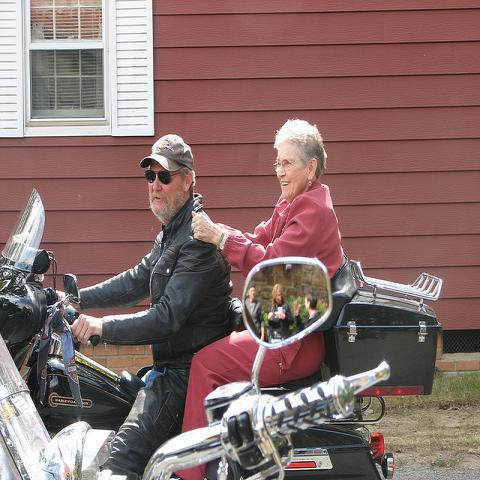motorcycle: (0, 190, 446, 429), (54, 364, 382, 479)
